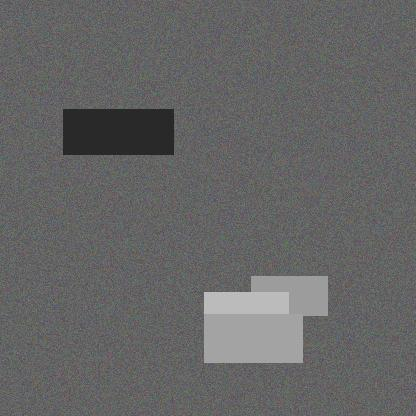empty: (97, 100, 155, 179), (95, 167, 174, 210)
occupied: (307, 248, 357, 312)
